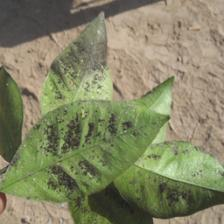Melanose: (6, 29, 221, 207)
